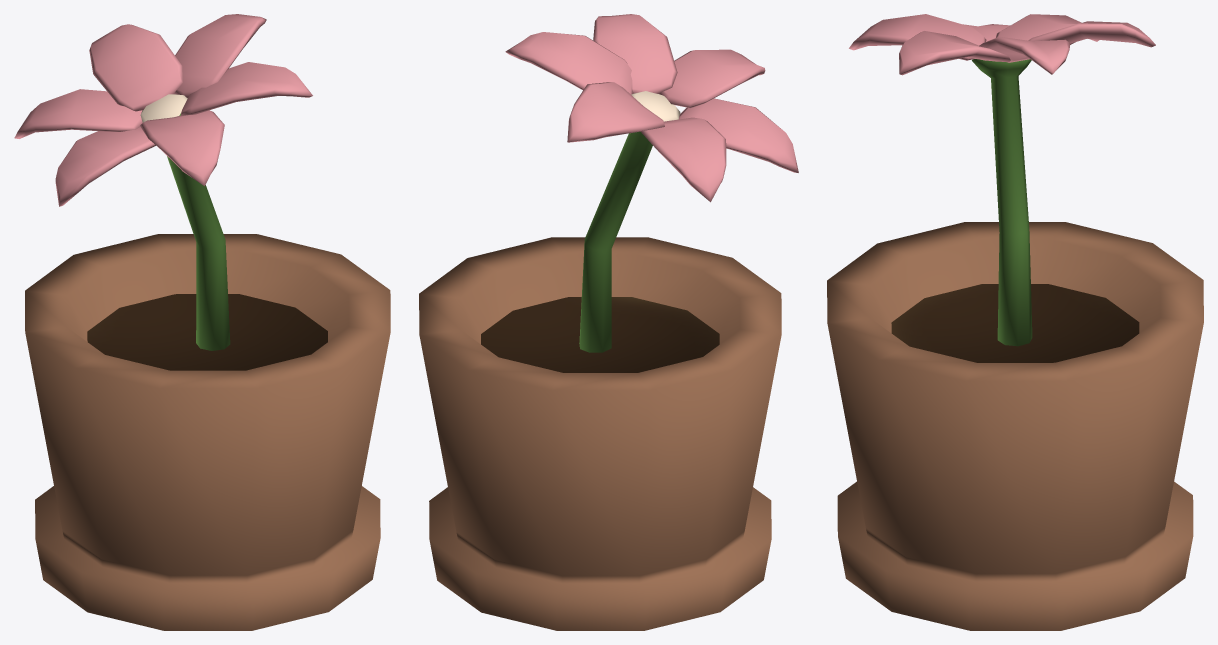
The model's file is Bakery_Flower_01.fbx.
The picture shows the model from 3 angles, left to right: view 1: azimuth 30°, elevation 25°; view 2: azimuth 150°, elevation 25°; view 3: azimuth 270°, elevation 25°; orthographic projection. The views are drawn at different scales.
Parts seen in each view (by area): view 1: Bakery_Flower_01; view 2: Bakery_Flower_01; view 3: Bakery_Flower_01.
Part boxes in pixels (bbox=[...]): Bakery_Flower_01: bbox=[14, 14, 390, 630]; Bakery_Flower_01: bbox=[419, 14, 798, 630]; Bakery_Flower_01: bbox=[827, 14, 1203, 630].
Bounding box in the file's own units: 28.23 × 42.51 × 26.87.
